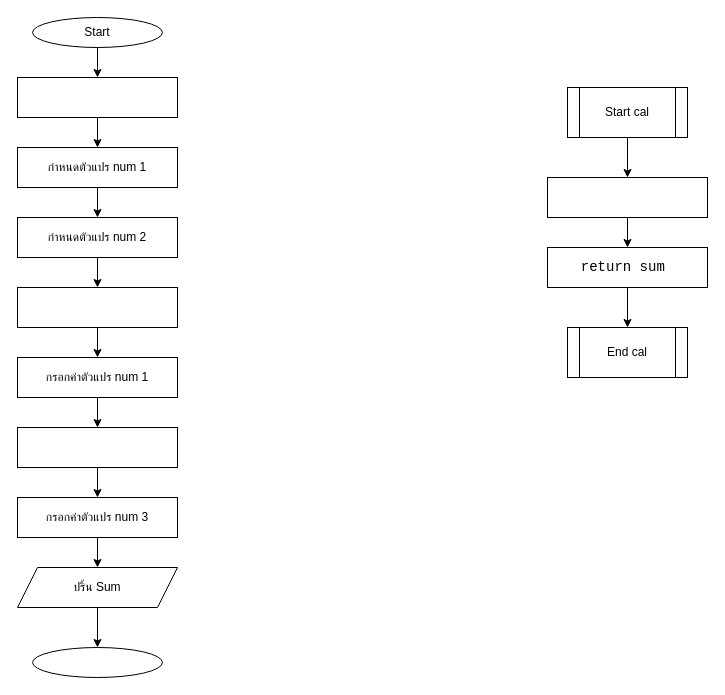
Some shapes in this 725 by 695 pixel diagram are drawn without their labels. The shapes that lost their labels are listed below. From the top down, each one's centre as x and y in pixels, then its label:
the point at 97,97: กำหนดตัวแปร Sum
the point at 627,197: sum = num1 + num2 +num3
the point at 97,307: กำหนดตัวแปร num 3
the point at 97,447: กรอกค่าตัวแปร num 2
the point at 97,662: End
